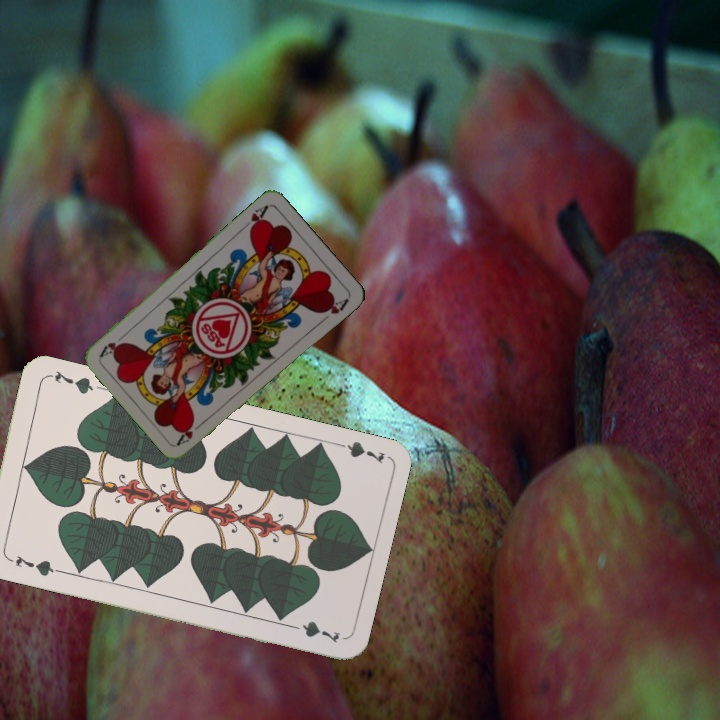G7: (328, 437, 387, 466), (2, 551, 61, 579)
HA: (237, 201, 271, 234), (173, 416, 208, 447)
